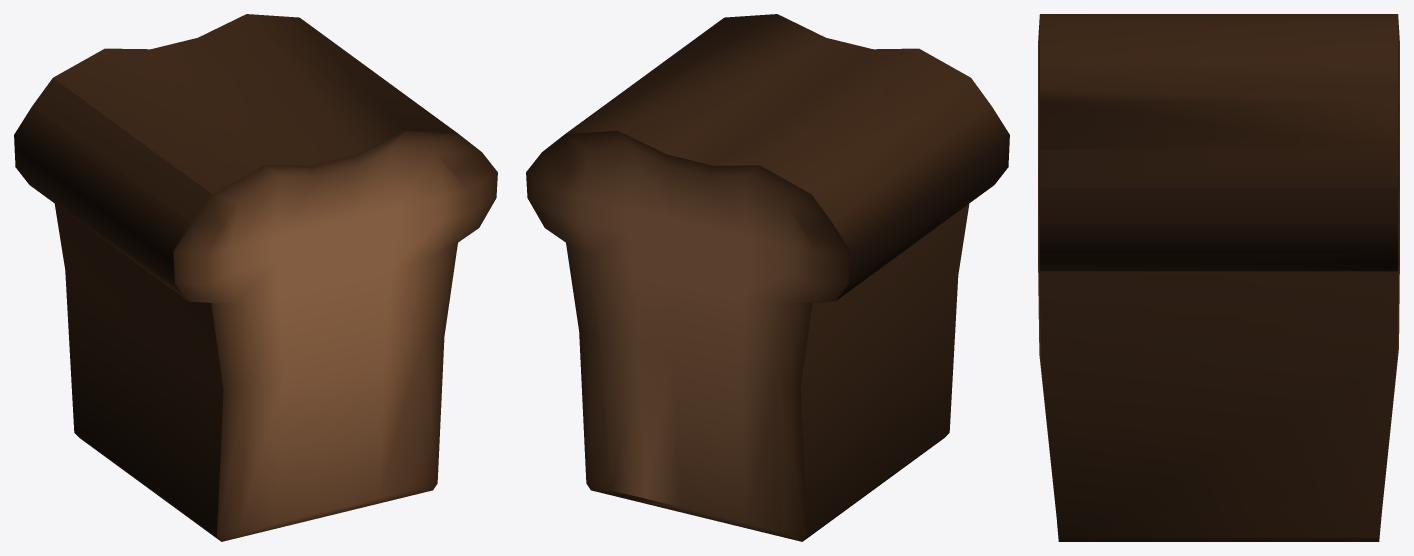
File: Bread2.fbx
3 renders of one model, left to right at view 1: azimuth 30°, elevation 25°; view 2: azimuth 150°, elevation 25°; view 3: azimuth 270°, elevation 25°, orthographic. The views are drawn at different scales.
Visible parts, largest first — view 1: Bread_Model; view 2: Bread_Model; view 3: Bread_Model.
Boxes of the visible parts, x1,y1,x2,y2 form: Bread_Model: [14, 14, 497, 541]; Bread_Model: [526, 14, 1009, 541]; Bread_Model: [1038, 14, 1399, 541].
Size of the model in its own units: 440 by 485 by 378.
